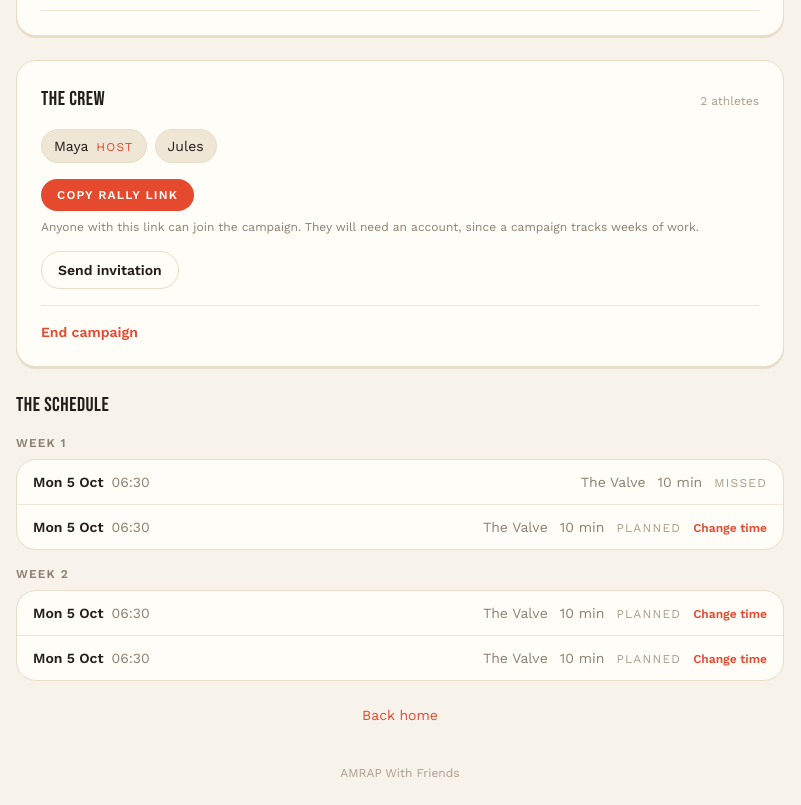
it: CampaignDetailPage › editing › keeps the row open and shows why when a move is refused
(page scrolled)
Click the button "Change time" below "Missed". click: (730,528)
box: x1=693 y1=520 x2=767 y2=536
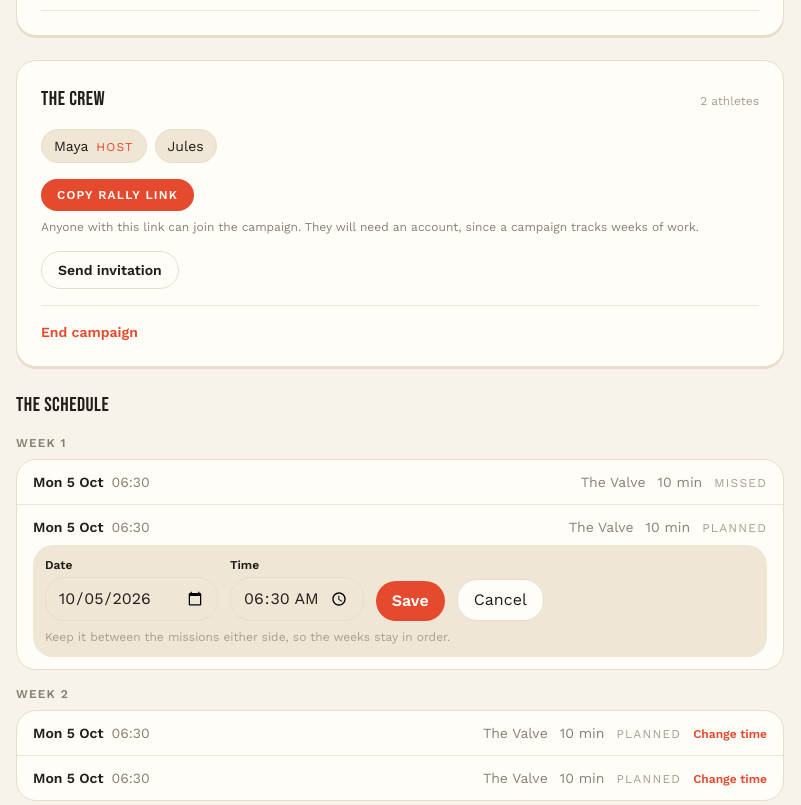
Click the button "Save". click: (410,601)
box: x1=376 y1=581 x2=445 y2=621
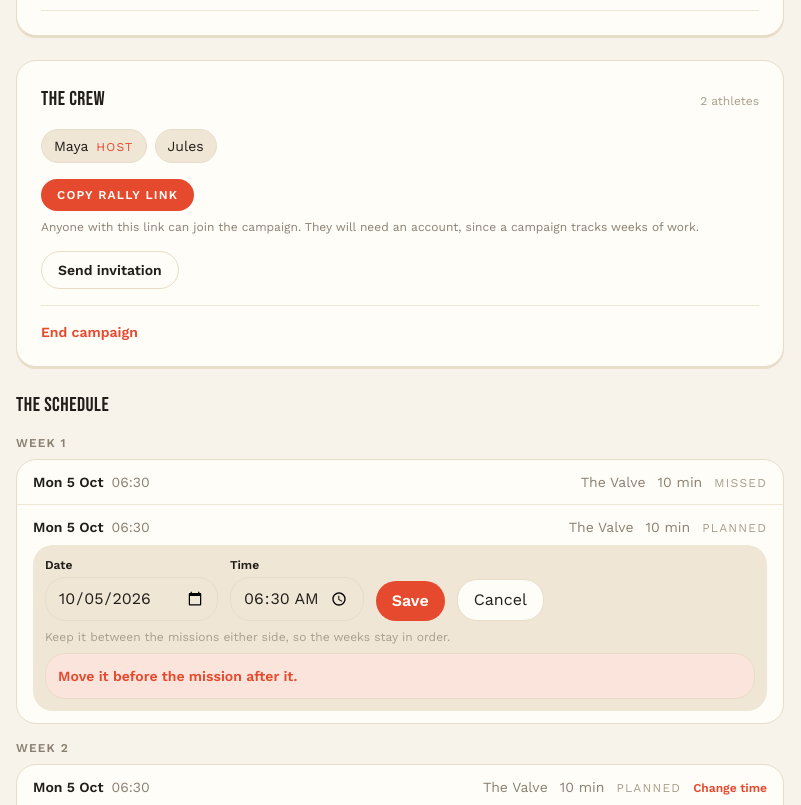
Now the button "Save" is shown, box x1=376 y1=581 x2=445 y2=621
Now the text "Move it before the mission after it." is shown, box x1=45 y1=653 x2=755 y2=699
